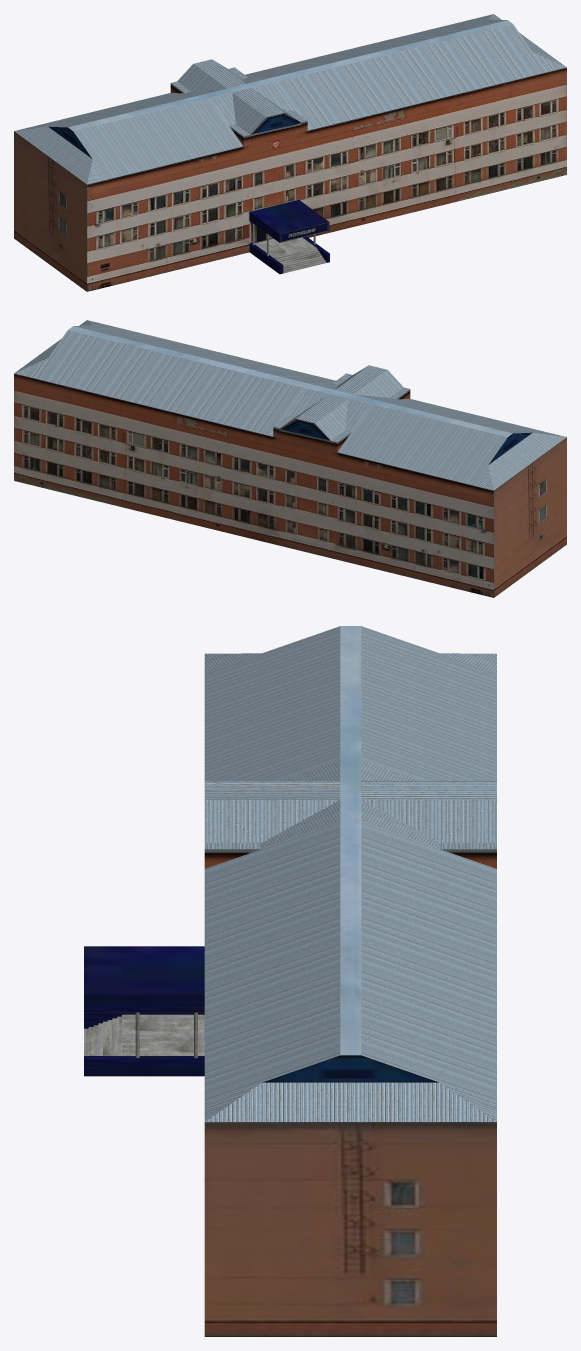
Rendered from z_police.glb.
The picture shows the model from 3 angles, top to bottom: view 1: azimuth 30°, elevation 25°; view 2: azimuth 150°, elevation 25°; view 3: azimuth 270°, elevation 25°; orthographic projection. The views are drawn at different scales.
Visible parts, largest first — view 1: body, cover, cover2, stairs, side; view 2: body, cover; view 3: cover, body, cover2, stairs, side.
Boxes of the visible parts, x1=… form: body: x1=14, y1=67, x2=566, y2=291; cover: x1=14, y1=14, x2=566, y2=184; cover2: x1=249, y1=200, x2=329, y2=242; stairs: x1=254, y1=237, x2=326, y2=273; side: x1=249, y1=236, x2=329, y2=274; body: x1=14, y1=373, x2=566, y2=597; cover: x1=14, y1=320, x2=566, y2=490; cover: x1=204, y1=626, x2=496, y2=1121; body: x1=204, y1=1122, x2=496, y2=1336; cover2: x1=84, y1=946, x2=204, y2=1012; stairs: x1=84, y1=1014, x2=204, y2=1055; side: x1=84, y1=1012, x2=204, y2=1076.
Bounding box in the file's own units: 55 × 14.34 × 20.49.
Materials: 3 (3 with a texture image).
